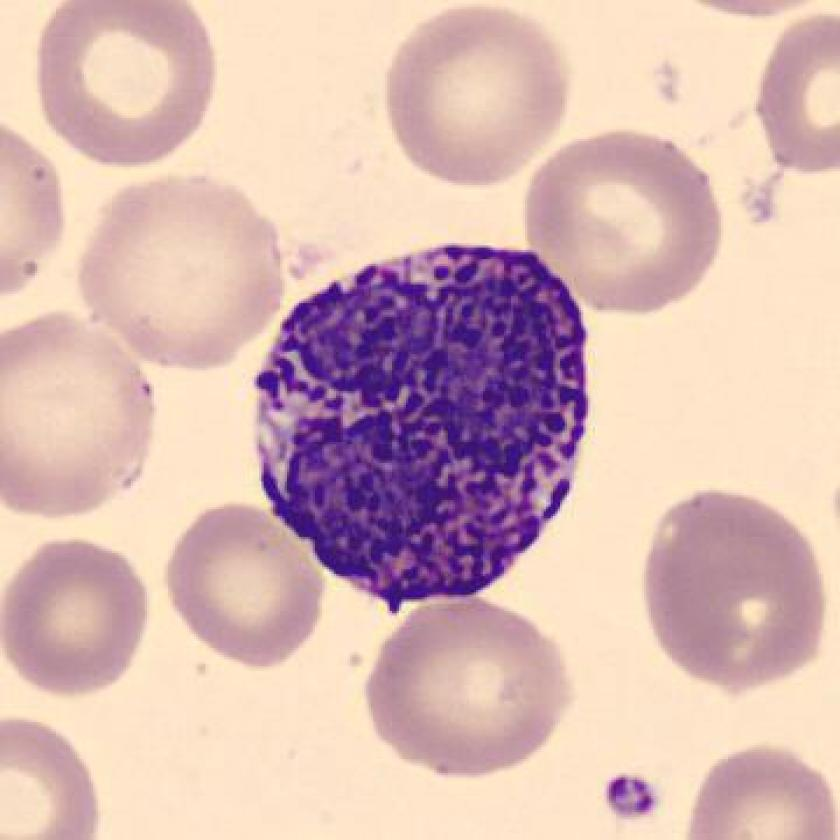basophil: (251, 235, 608, 617)
